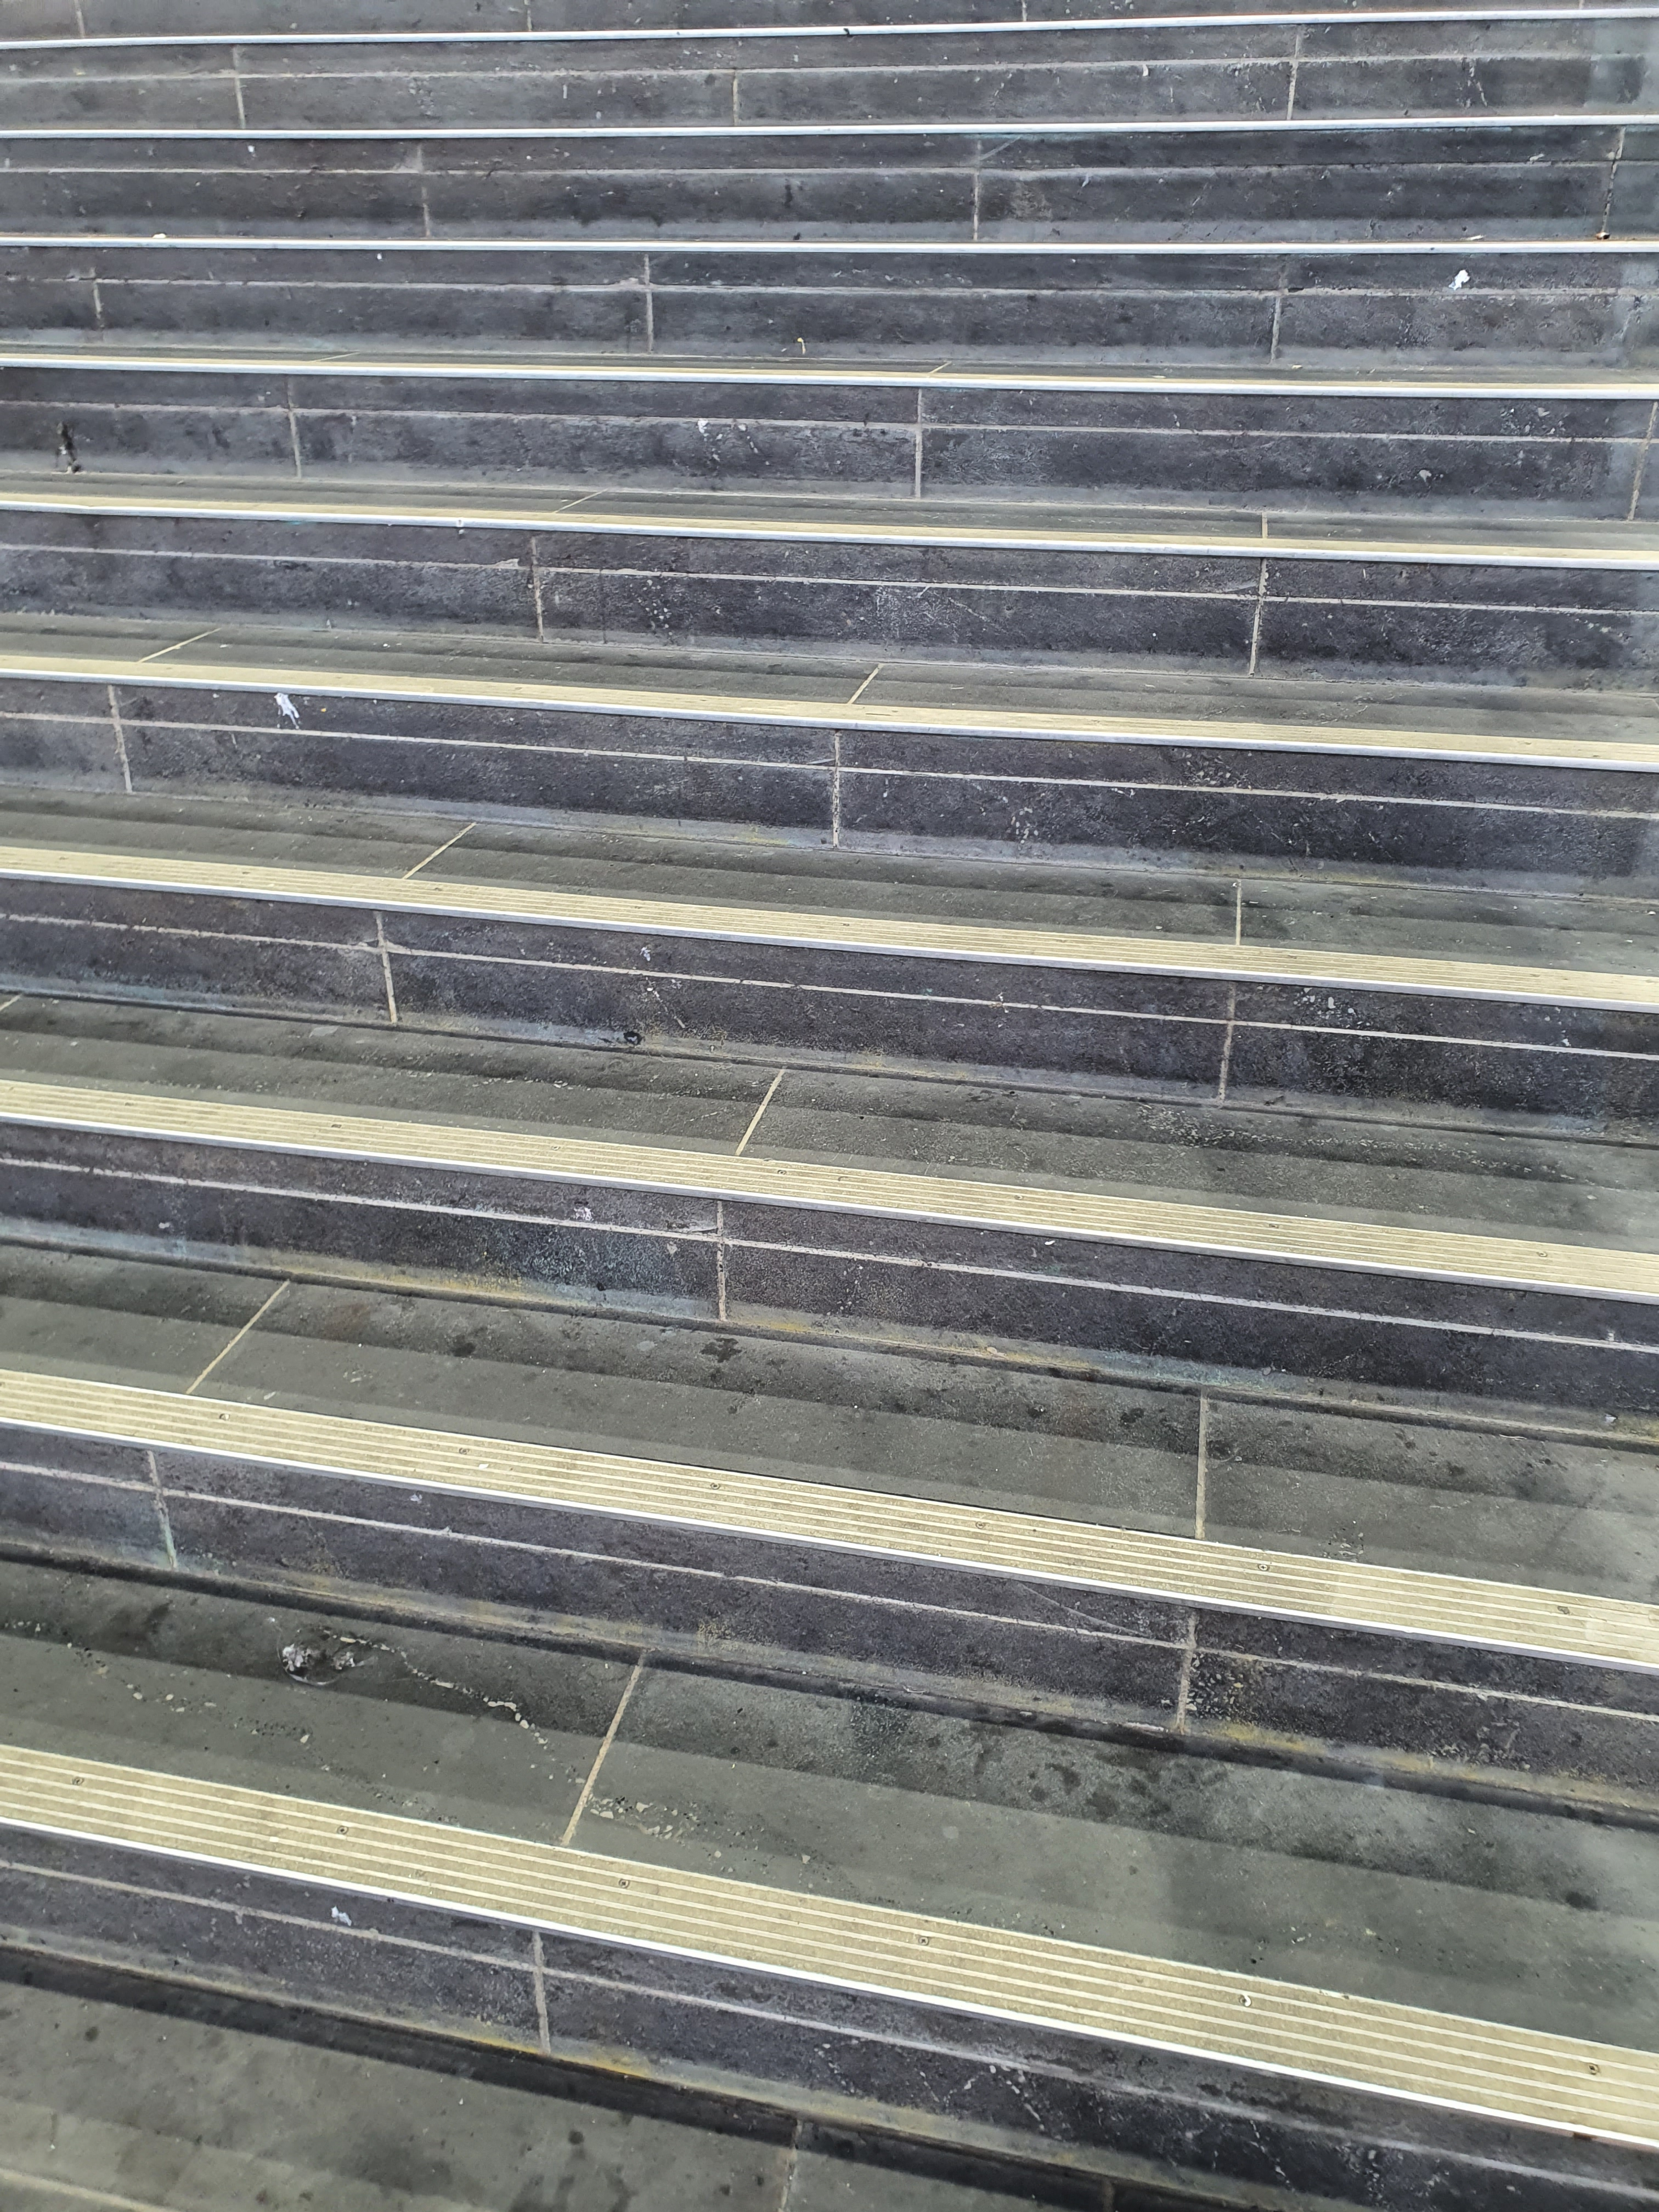upstairs: (0, 737, 1659, 2212)
